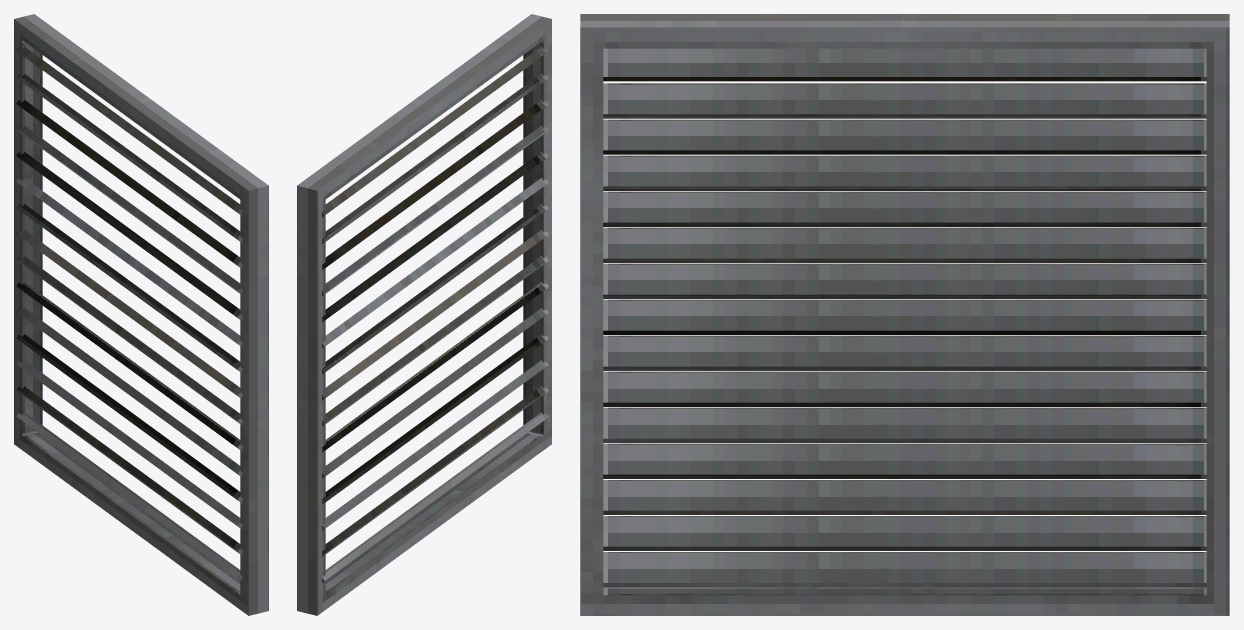
Rendered from vent_cover_see_through.glb.
3 views of the same model, side by side, from view 1: azimuth 30°, elevation 25°; view 2: azimuth 150°, elevation 25°; view 3: azimuth 270°, elevation 25° (orthographic). The views are drawn at different scales.
Parts seen in each view (by area): view 1: vent_cover_see_through; view 2: vent_cover_see_through; view 3: vent_cover_see_through.
Part boxes in pixels (x1,y1,x2,y2): vent_cover_see_through: [14, 14, 268, 615]; vent_cover_see_through: [297, 14, 551, 615]; vent_cover_see_through: [580, 14, 1229, 615].
Size of the model in its own units: 0.0566 by 1 by 1.
Materials: 1 (1 with a texture image).
